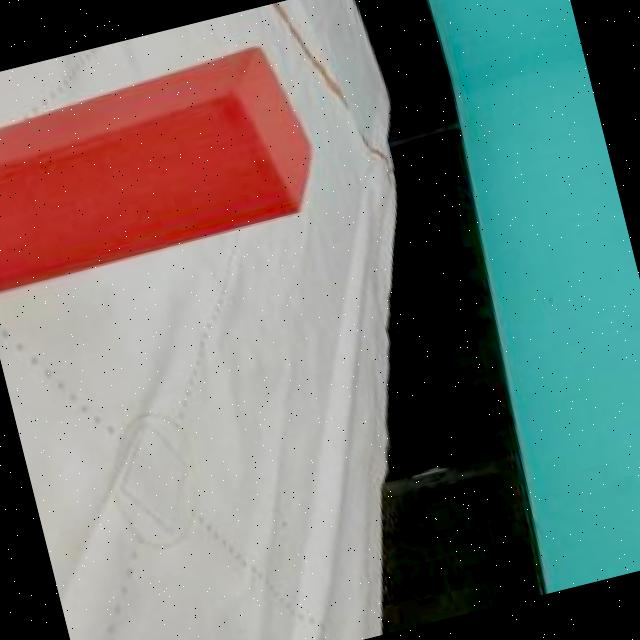redbox: (0, 39, 331, 300)
